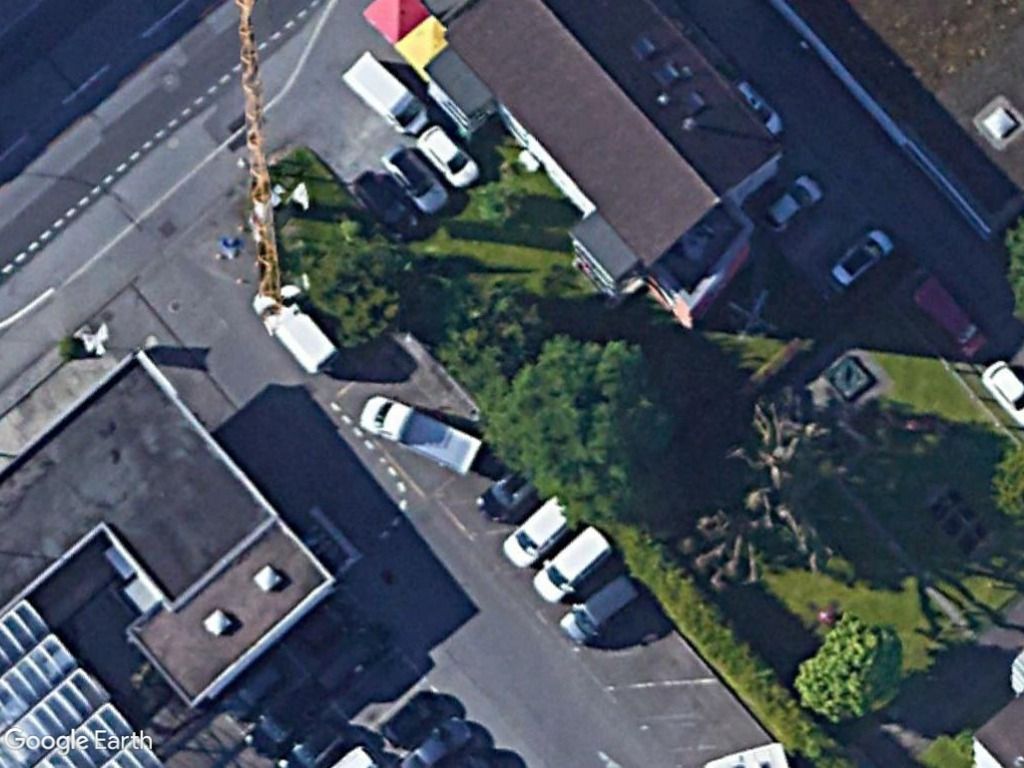car: (380, 141, 452, 218), (827, 227, 897, 289), (758, 173, 825, 236), (417, 124, 482, 188)
others: (355, 390, 486, 478)
truck: (336, 47, 430, 138)
van: (529, 525, 612, 605), (555, 574, 642, 649), (500, 493, 576, 572)
